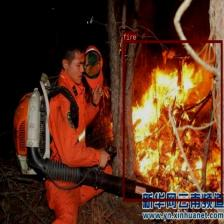fire: (122, 40, 222, 201)
